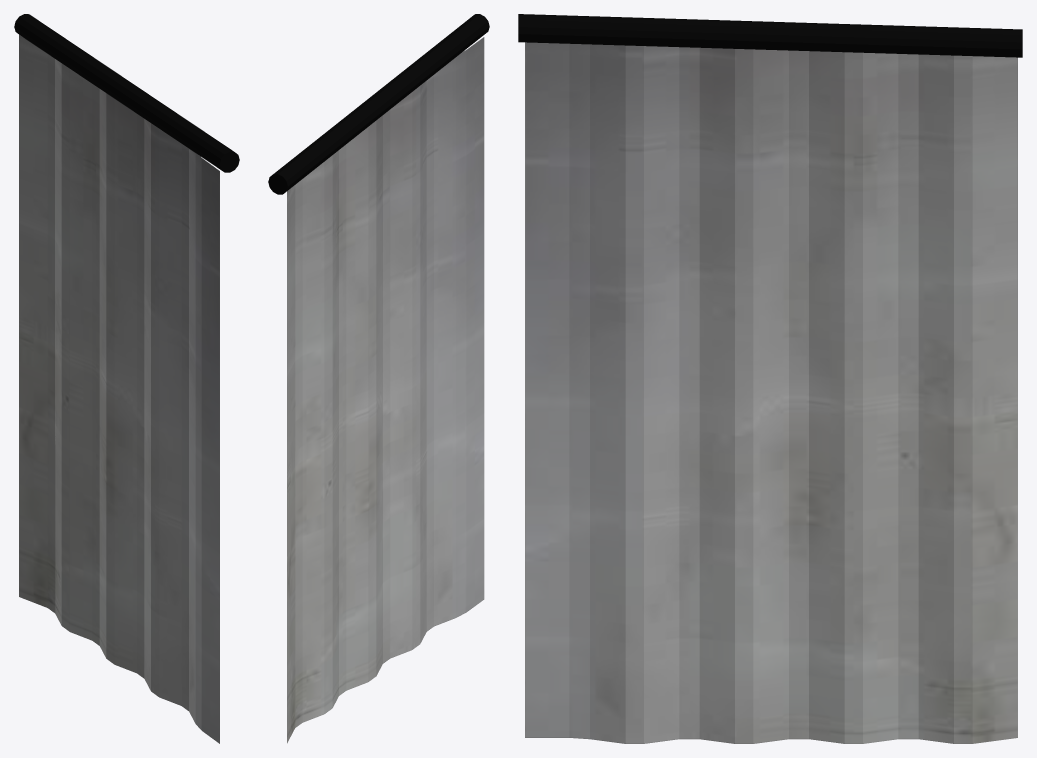
Rendered from toalha.glb.
3 renders of one model, left to right at view 1: azimuth 30°, elevation 25°; view 2: azimuth 150°, elevation 25°; view 3: azimuth 270°, elevation 25°, orthographic. The views are drawn at different scales.
Parts seen in each view (by area): view 1: toalha; view 2: toalha; view 3: toalha.
Part boxes in pixels (x1,y1,x2,y2): toalha: [14, 14, 239, 743]; toalha: [268, 14, 489, 743]; toalha: [518, 14, 1022, 743].
Bounding box in the file's own units: 0.0983 × 2.78 × 1.75.
2 materials, 1 textured.
